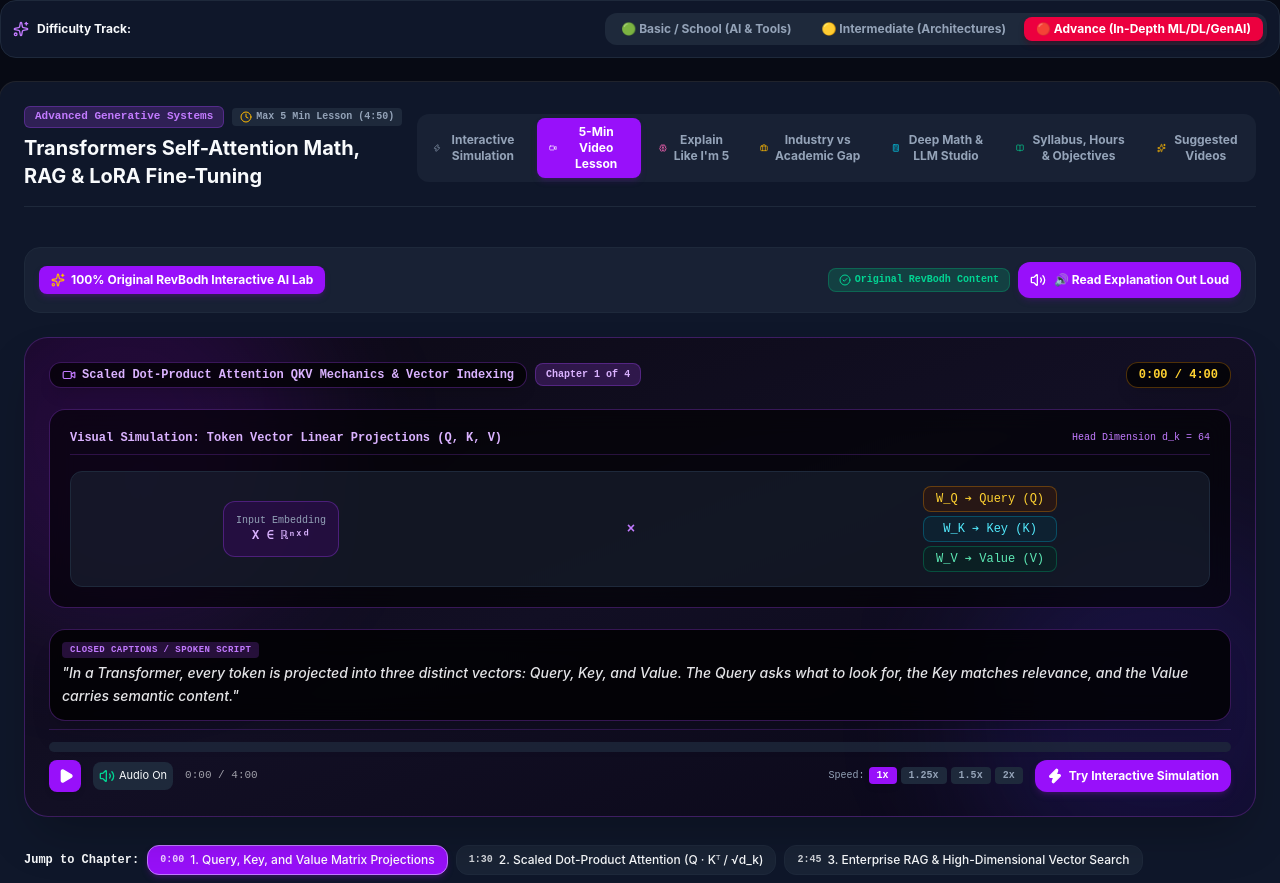
Test: Micro-Learning Player & Multi-Level Simulations › renders Advanced Level track with RAG Vector Database Simulator and QKV attention
The image size is (1280, 883).
// Switch to Interactive Simulation tab
Click the button "Interactive Simulation": x=476, y=148 x1=421 y1=126 x2=531 y2=170
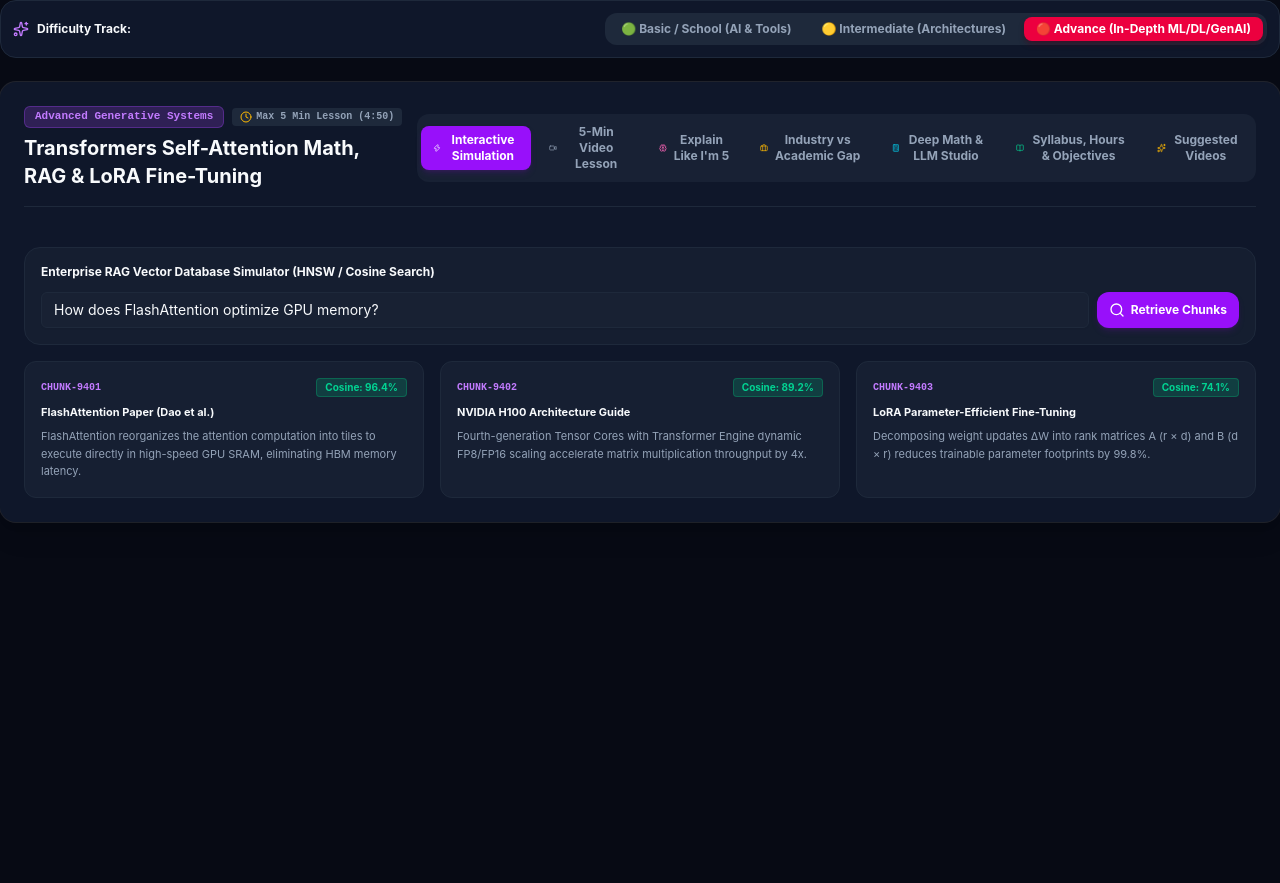
Expected: the button "🔴 Advance (In-Depth ML/DL/GenAI)" is shown, x1=1024 y1=17 x2=1263 y2=41
Expected: the text "Enterprise RAG Vector Database Simulator" is shown, x1=41 y1=264 x2=435 y2=279
Expected: the text "FlashAttention Paper (Dao et al.)" is shown, x1=41 y1=405 x2=214 y2=419
